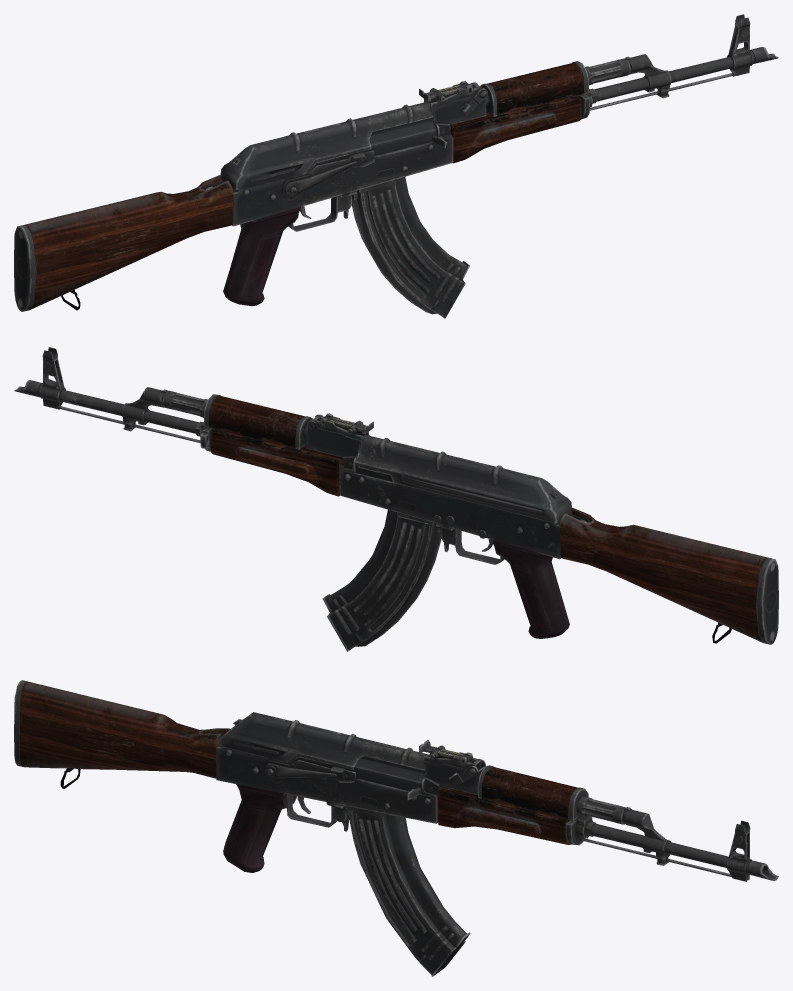
The picture shows the model from 3 angles, top to bottom: view 1: azimuth 30°, elevation 25°; view 2: azimuth 150°, elevation 25°; view 3: azimuth 330°, elevation 25°; orthographic projection.
Visible parts, largest first — view 1: bm_magazine_low_Material #44_0; view 2: bm_magazine_low_Material #44_0; view 3: bm_magazine_low_Material #44_0.
Boxes of the visible parts, left/top/right/bottom form: bm_magazine_low_Material #44_0: left=14, top=14, right=778, bottom=318; bm_magazine_low_Material #44_0: left=14, top=347, right=778, bottom=651; bm_magazine_low_Material #44_0: left=14, top=680, right=778, bottom=976.
Size of the model in its own units: 1.92 by 0.5465 by 0.135.
Materials: 1 (1 with a texture image).
